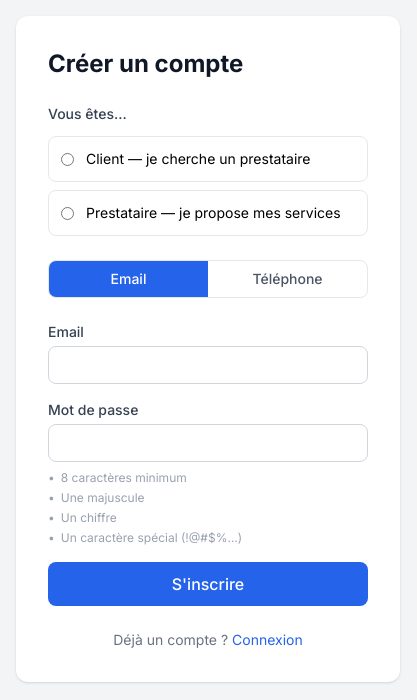
Test: shows client step 2 after successful email registration
Click the text "Client — je cherche un prestataire". click: (208, 159)
box: [48,136,368,182]
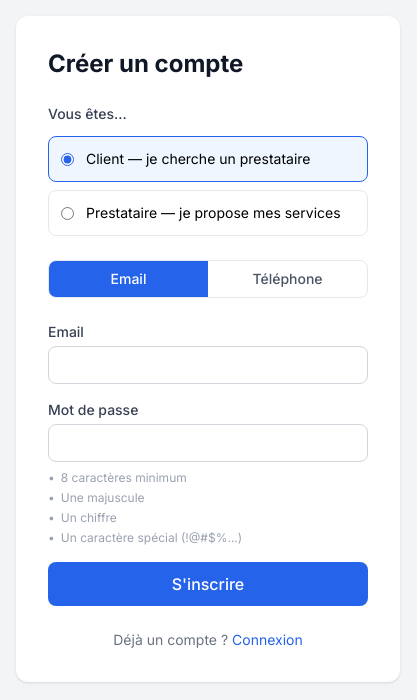
Type "test@test.com" into the field labelled "Email". click: (208, 365)
box: [48,346,368,384]
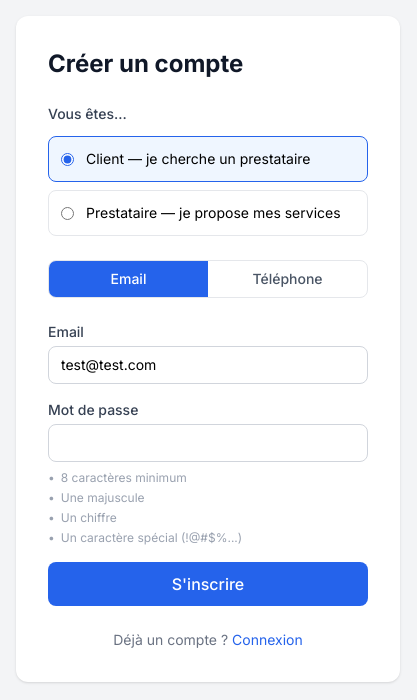
Type "Test1234!" into the password field labelled "Mot de passe". click: (208, 443)
box: [48,424,368,462]
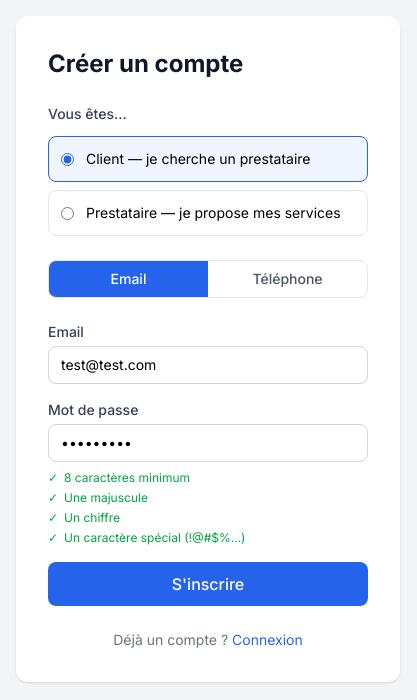
Click the button "S'inscrire". click: (208, 584)
box: [48,562,368,606]
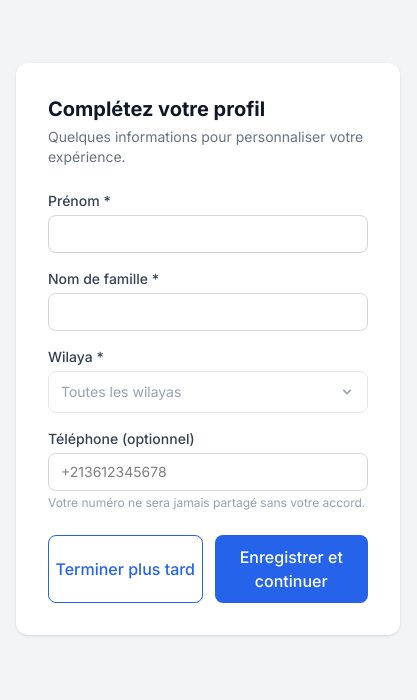
Check: the heading "Complétez votre profil" is shown, box [48,97,265,121]
Check: the field labelled "Prénom *" is shown, box [48,215,368,253]
